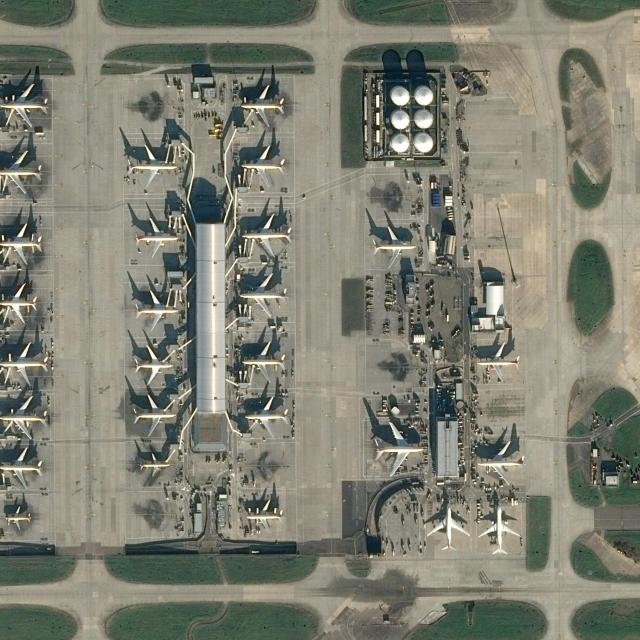1: (0, 149, 43, 194)
aircraft: (372, 421, 423, 476), (374, 420, 424, 476), (124, 143, 178, 188), (475, 440, 525, 486), (126, 144, 178, 188), (0, 82, 49, 128), (0, 342, 51, 386), (241, 212, 292, 256), (241, 213, 292, 257), (238, 272, 286, 318), (0, 82, 48, 128), (0, 340, 48, 386), (0, 394, 48, 440), (476, 440, 525, 485), (238, 272, 288, 316), (477, 504, 521, 554), (478, 504, 521, 554), (0, 395, 47, 439), (426, 504, 470, 551), (243, 394, 289, 438), (240, 144, 286, 188), (0, 150, 45, 194), (427, 505, 471, 550), (371, 224, 416, 268), (240, 341, 286, 384), (240, 340, 286, 383), (240, 84, 286, 127), (239, 144, 285, 186), (130, 394, 176, 436), (243, 396, 289, 438), (239, 84, 284, 126), (133, 288, 178, 330), (133, 290, 179, 331), (0, 446, 43, 489), (134, 216, 178, 258), (132, 394, 176, 436), (0, 223, 43, 265), (0, 446, 43, 488), (476, 341, 520, 382), (0, 222, 42, 264), (372, 226, 416, 266), (134, 217, 178, 257), (132, 344, 174, 385), (476, 341, 519, 381), (132, 345, 172, 386), (0, 283, 39, 325), (0, 282, 37, 324), (245, 498, 283, 532), (246, 498, 283, 532), (138, 452, 170, 477), (138, 454, 170, 478), (4, 505, 32, 530), (5, 506, 31, 530)
